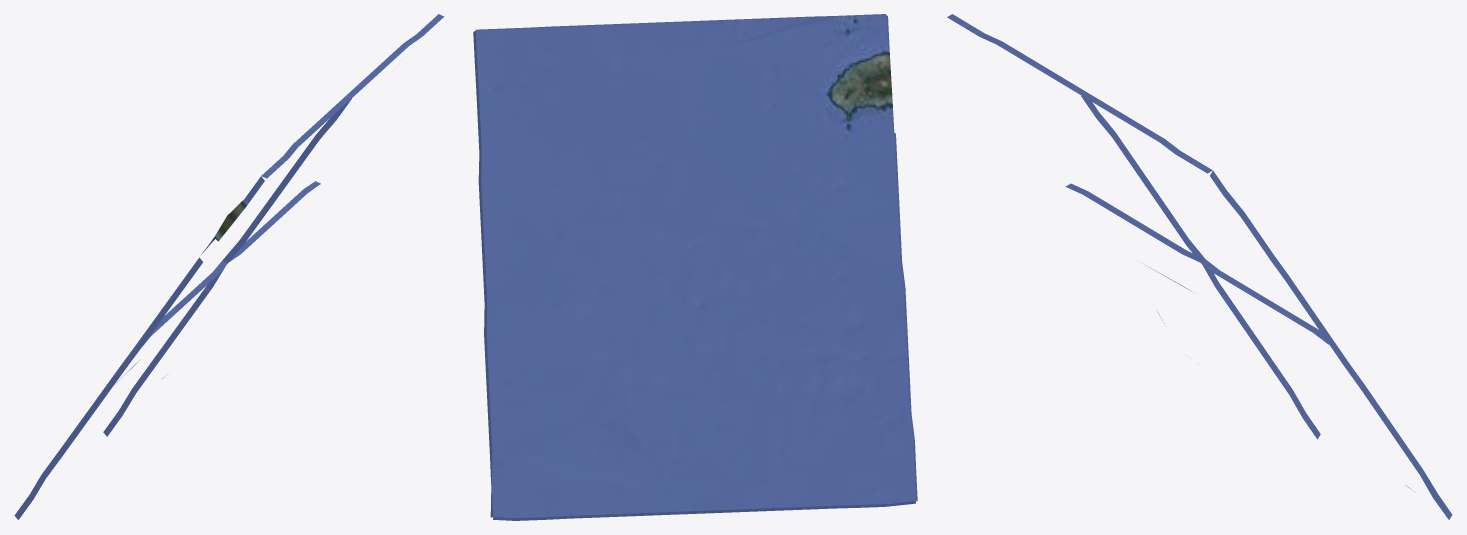
The picture shows the model from 3 angles, left to right: view 1: azimuth 30°, elevation 25°; view 2: azimuth 150°, elevation 25°; view 3: azimuth 270°, elevation 25°; orthographic projection. The views are drawn at different scales.
Size of the model in its own units: 316837 by 268628 by 293288.
1 material, 1 textured.
